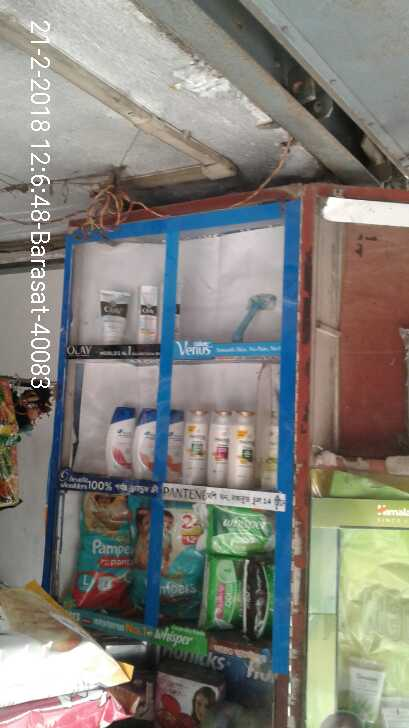venus: (233, 291, 280, 337)
